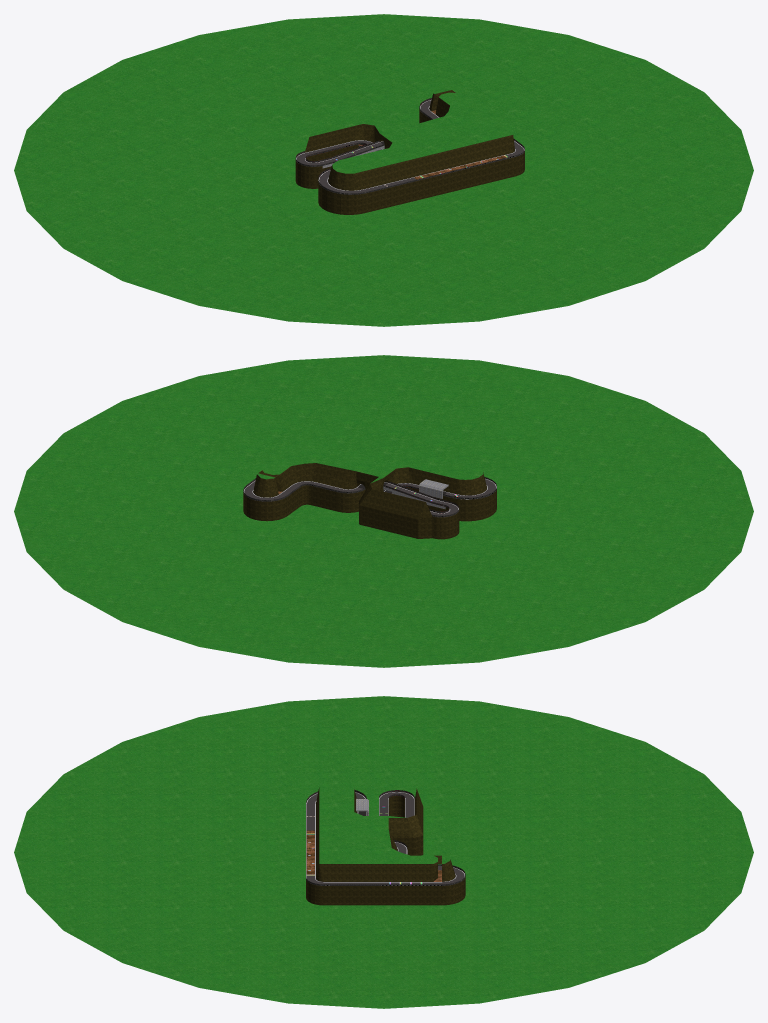
The picture shows the model from 3 angles, top to bottom: view 1: azimuth 30°, elevation 25°; view 2: azimuth 150°, elevation 25°; view 3: azimuth 270°, elevation 25°; orthographic projection.
Parts seen in each view (by area): view 1: NightMountain-SKP--mat10, NightMountain-SKP--mat6, NightMountain-SKP--mat5, NightMountain-SKP--mat13; view 2: NightMountain-SKP--mat10, NightMountain-SKP--mat6, NightMountain-SKP--mat5, NightMountain-SKP--mat13, NightMountain-SKP--mat7; view 3: NightMountain-SKP--mat10, NightMountain-SKP--mat6, NightMountain-SKP--mat5, NightMountain-SKP--mat13.
Part boxes in pixels (box(x1,y1,x2,y2)): NightMountain-SKP--mat10: box(14, 14, 753, 326); NightMountain-SKP--mat6: box(295, 90, 524, 214); NightMountain-SKP--mat5: box(296, 100, 524, 194); NightMountain-SKP--mat13: box(295, 98, 524, 194); NightMountain-SKP--mat10: box(14, 355, 753, 667); NightMountain-SKP--mat6: box(243, 463, 496, 539); NightMountain-SKP--mat5: box(243, 478, 496, 517); NightMountain-SKP--mat13: box(243, 477, 496, 517); NightMountain-SKP--mat7: box(383, 479, 448, 509); NightMountain-SKP--mat10: box(14, 696, 753, 1008); NightMountain-SKP--mat6: box(306, 787, 465, 905); NightMountain-SKP--mat5: box(306, 791, 465, 885); NightMountain-SKP--mat13: box(306, 790, 465, 885).
Bounding box in the file's own units: 252504 × 13446 × 252504.
Materials: 15 (15 with a texture image).
